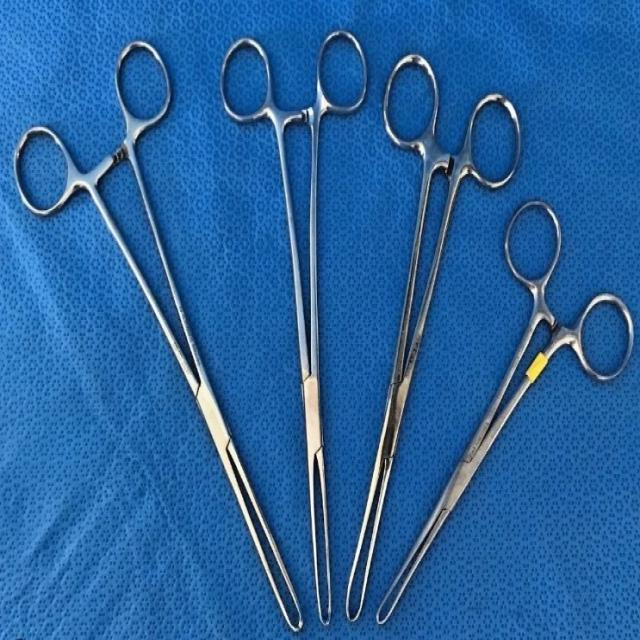Allis Forceps: (9, 38, 306, 632), (370, 196, 636, 626), (343, 2, 521, 637), (222, 27, 366, 632)
